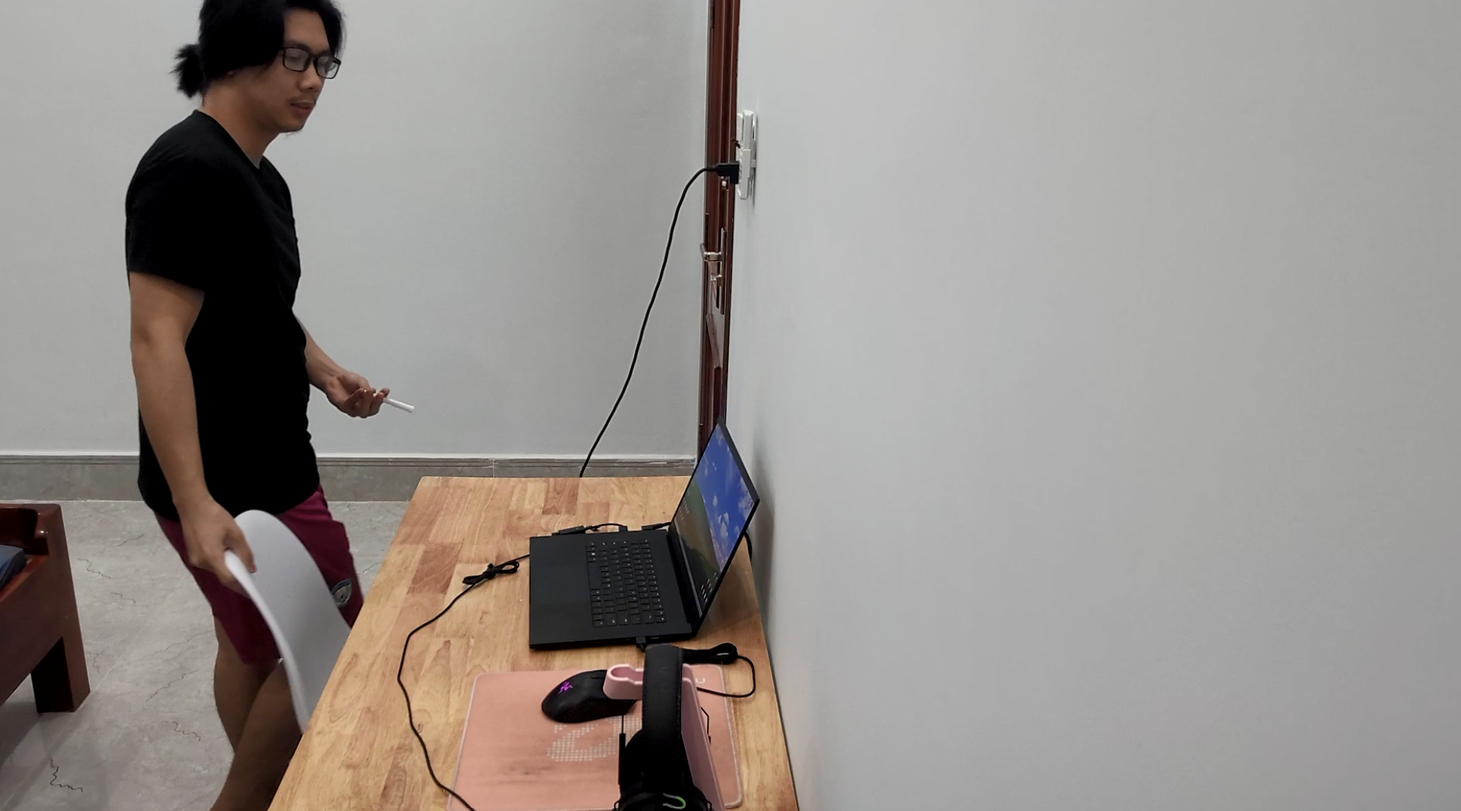cigarette: (366, 382, 416, 417)
person: (86, 0, 432, 597)
